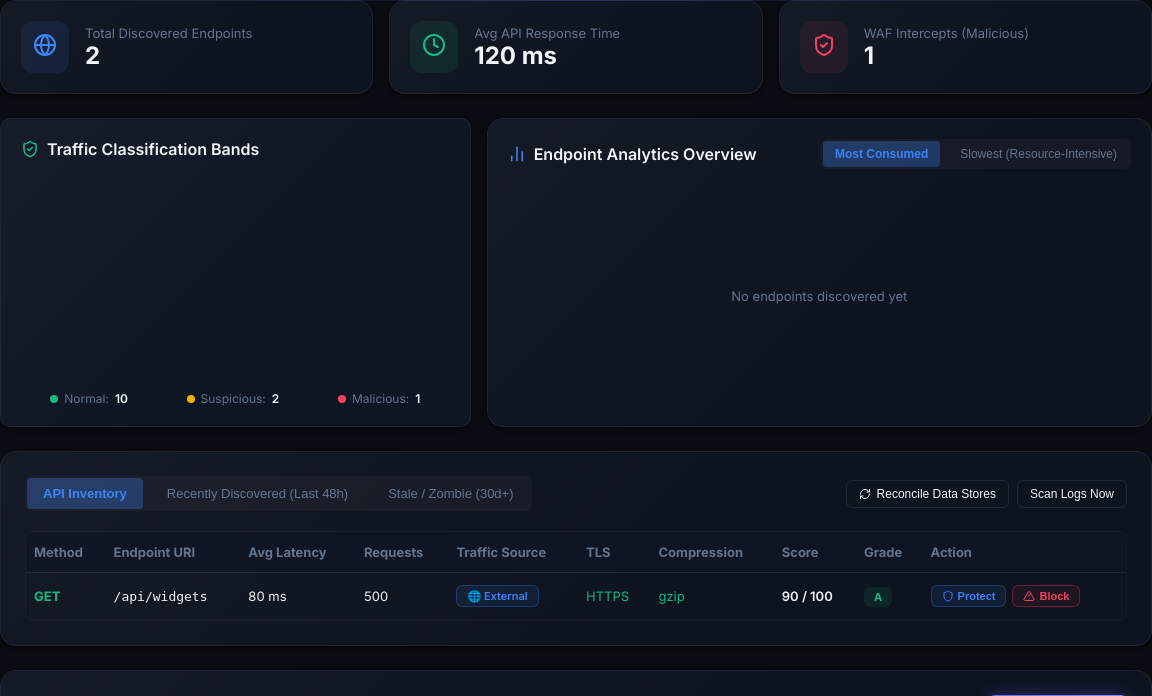
Test: ApiProtection — inventory › switches to the stale tab and shows its own empty-state copy
expect the text "/api/widgets" is shown: met, box [114,588,208,604]
Click the button "Stale / Zombie (30d+)". click: [451, 494]
box: [372,478,530,509]
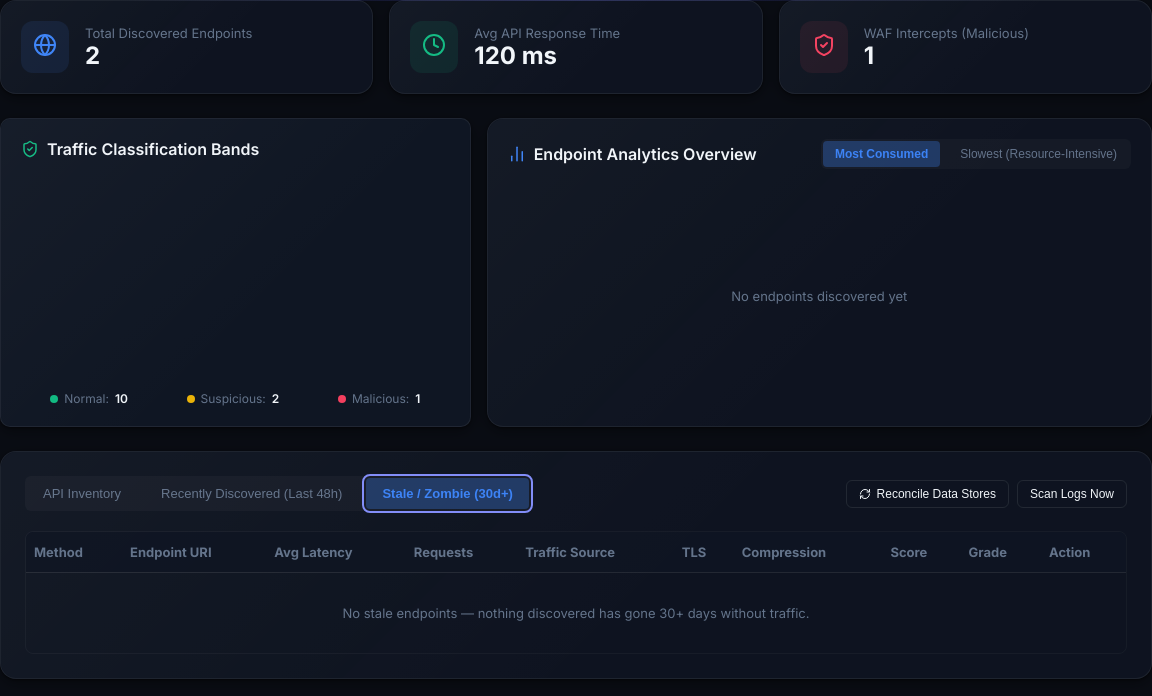
expect the text "No stale endpoints" is shown: met, box [342,605,810,621]
